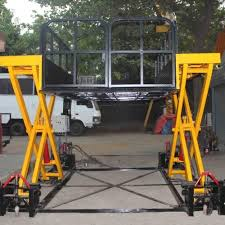Scissor Lift: (2, 15, 225, 221)
